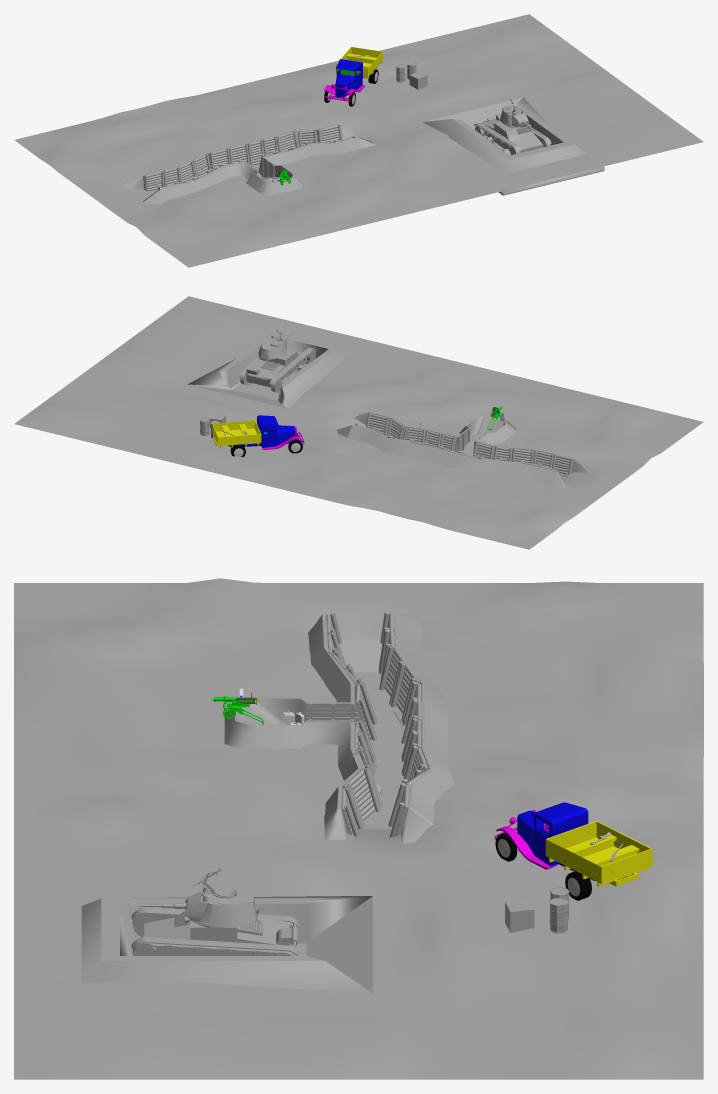
File: Trincheira_Cenario.fbx
The picture shows the model from 3 angles, top to bottom: view 1: azimuth 30°, elevation 25°; view 2: azimuth 150°, elevation 25°; view 3: azimuth 270°, elevation 25°; orthographic projection. The views are drawn at different scales.
Visible parts, largest first — view 1: Chao, Trincheira_2, Trincheira_1, Troncos, T26_1938_Casco, GAZ_AA_Madeira, GAZ_AA_Corpo, T26_1938_Torre; view 2: Chao, Trincheira_1, Trincheira_2, Troncos, T26_1938_Casco, GAZ_AA_Madeira, GAZ_AA_Corpo, T26_1938_Torre; view 3: Chao, Trincheira_1, Trincheira_2, Troncos, T26_1938_Casco, GAZ_AA_Madeira, T26_1938_Torre, GAZ_AA_Corpo, Tabuas, Wooden_Crate_Low.
Part boxes in pixels (bbox=[...]): Chao: bbox=[14, 14, 703, 267]; Trincheira_2: bbox=[423, 97, 604, 195]; Trincheira_1: bbox=[122, 124, 375, 204]; Troncos: bbox=[143, 124, 356, 191]; T26_1938_Casco: bbox=[473, 113, 551, 152]; GAZ_AA_Madeira: bbox=[336, 46, 382, 78]; GAZ_AA_Corpo: bbox=[335, 59, 362, 97]; T26_1938_Torre: bbox=[500, 105, 528, 127]; Chao: bbox=[14, 296, 703, 549]; Trincheira_1: bbox=[337, 412, 591, 488]; Trincheira_2: bbox=[187, 331, 351, 409]; Troncos: bbox=[353, 413, 574, 474]; T26_1938_Casco: bbox=[239, 347, 316, 387]; GAZ_AA_Madeira: bbox=[212, 420, 261, 448]; GAZ_AA_Corpo: bbox=[233, 415, 295, 447]; T26_1938_Torre: bbox=[258, 335, 287, 359]; Chao: bbox=[14, 578, 703, 1079]; Trincheira_1: bbox=[224, 614, 454, 843]; Trincheira_2: bbox=[81, 896, 372, 993]; Troncos: bbox=[326, 611, 428, 837]; T26_1938_Casco: bbox=[131, 907, 299, 955]; GAZ_AA_Madeira: bbox=[545, 821, 652, 886]; T26_1938_Torre: bbox=[185, 886, 258, 927]; GAZ_AA_Corpo: bbox=[517, 802, 594, 880]; Tabuas: bbox=[306, 702, 358, 722]; Wooden_Crate_Low: bbox=[505, 899, 534, 932].
Bounding box in the file's own units: 3559 × 352 × 2090.
